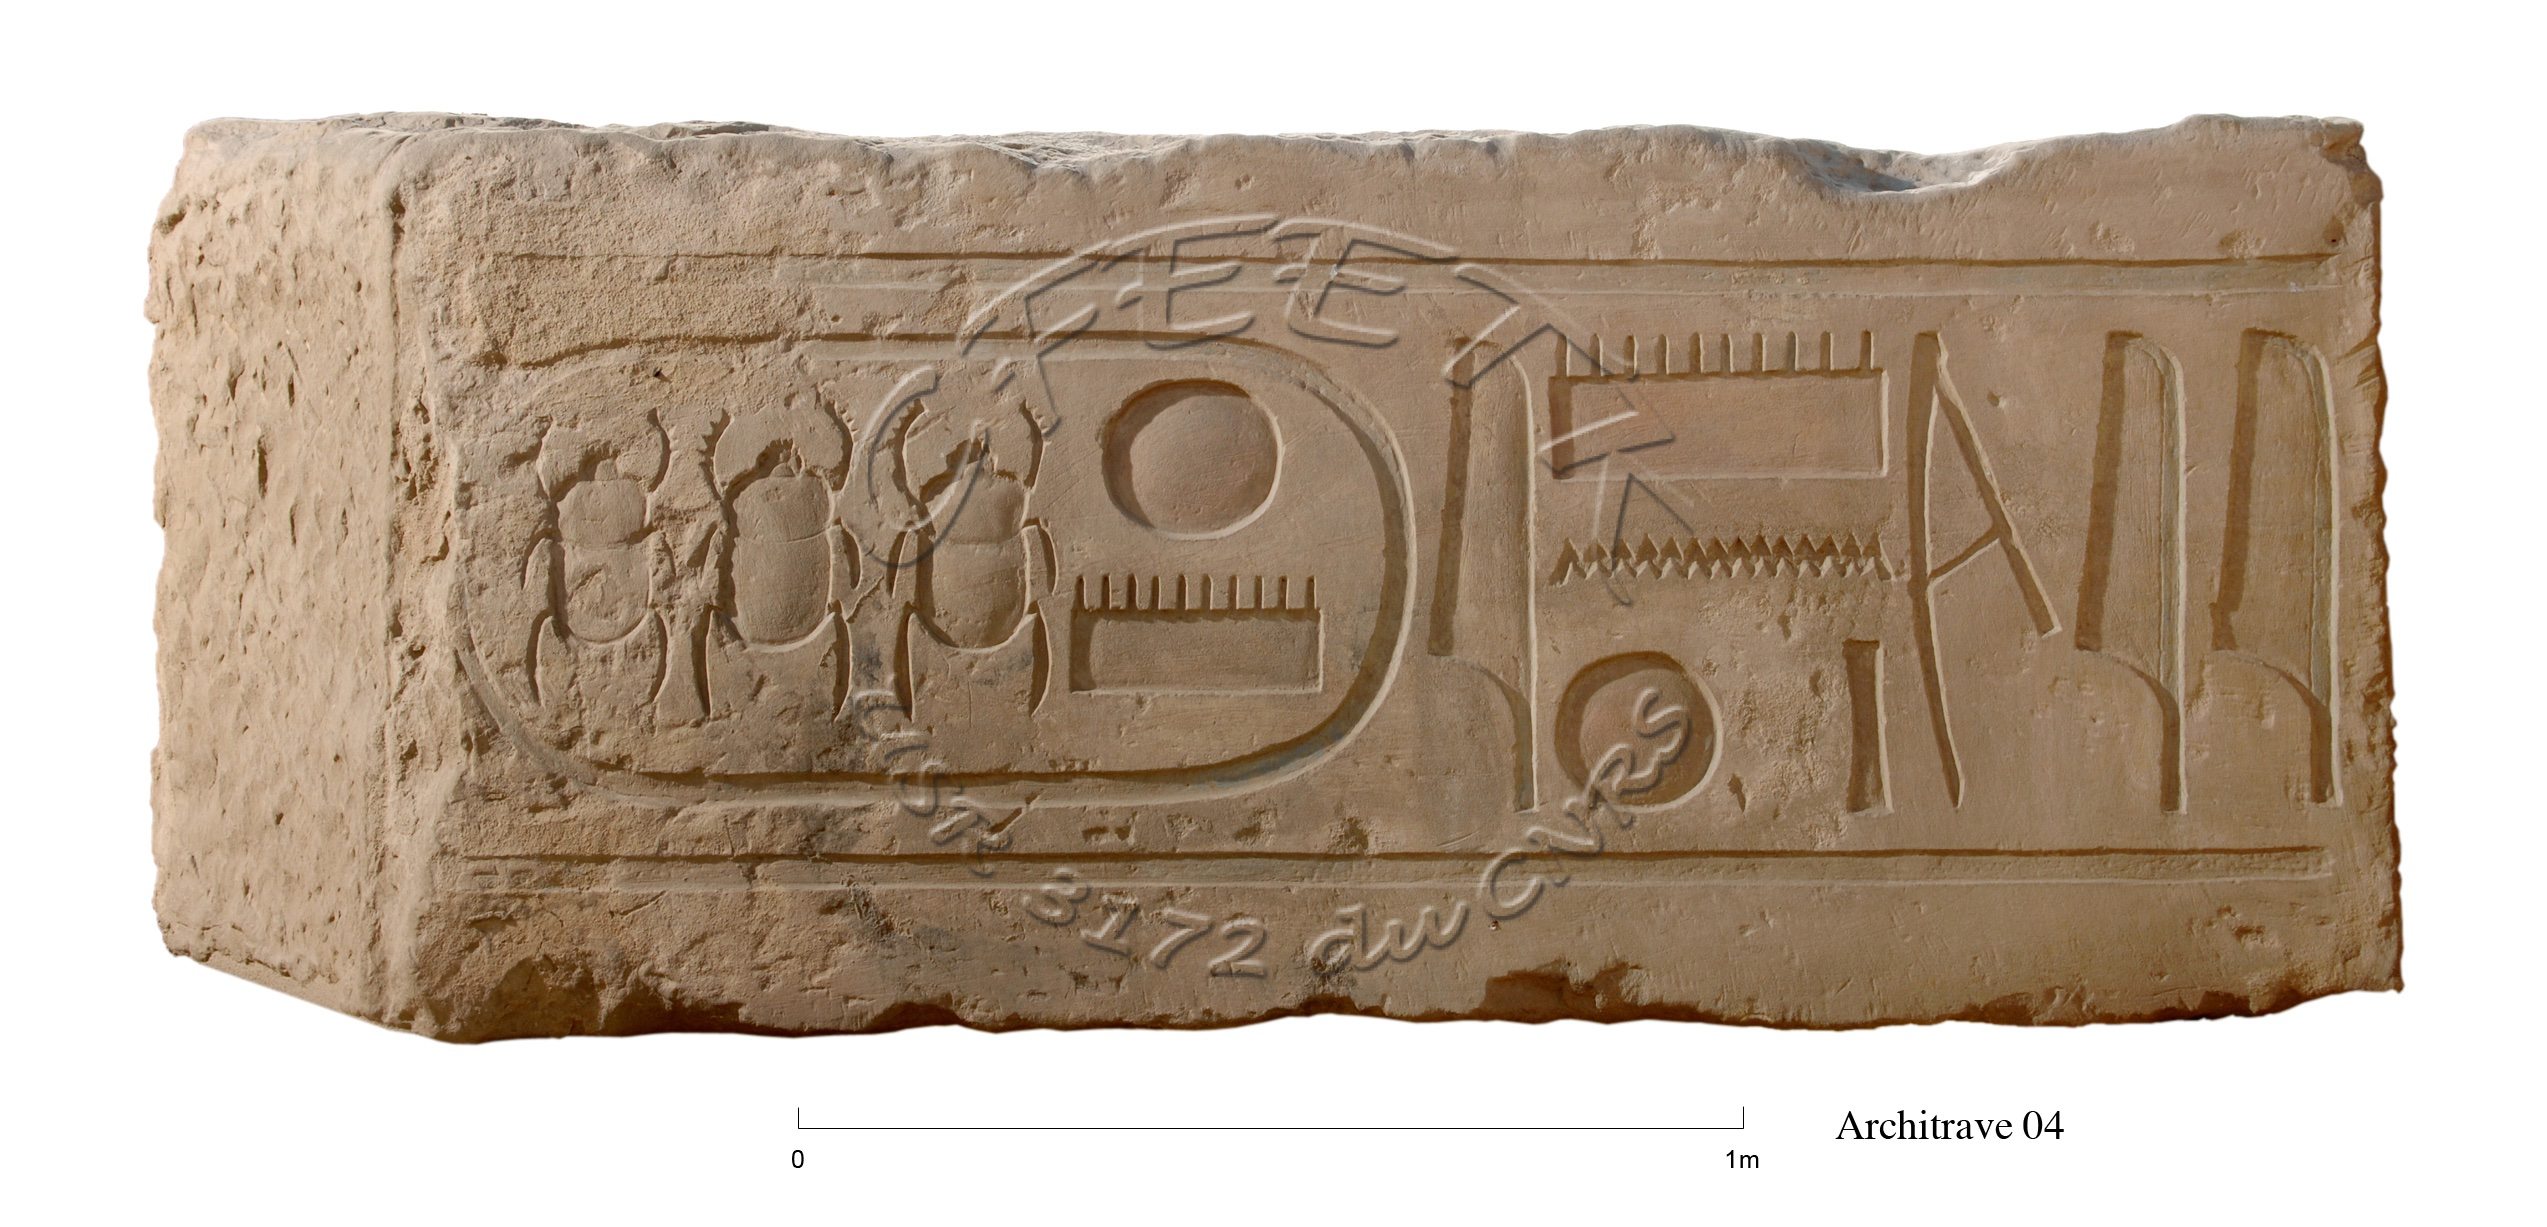M17: (1416, 319, 1581, 839), (2212, 314, 2359, 829), (2074, 307, 2212, 834)
N35: (1533, 525, 1904, 603)
